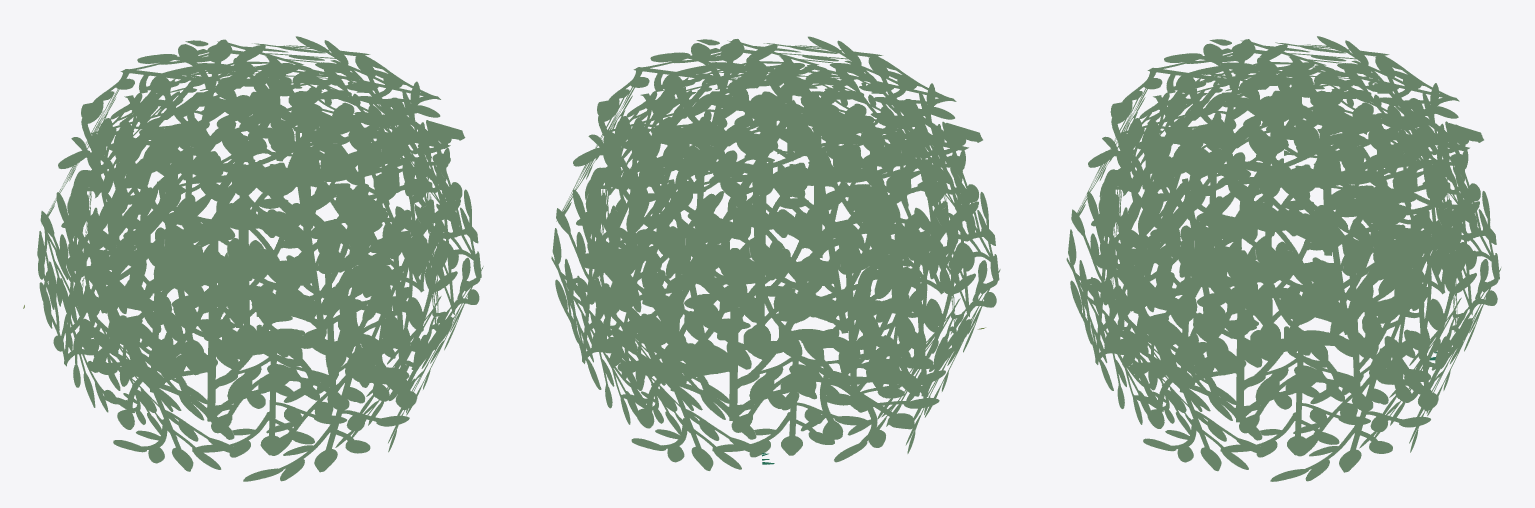
The model's file is Bush1.fbx.
3 views of the same model, side by side, from view 1: azimuth 30°, elevation 25°; view 2: azimuth 150°, elevation 25°; view 3: azimuth 270°, elevation 25° (orthographic).
Parts seen in each view (by area): view 1: pSphere14; view 2: pSphere14; view 3: pSphere14.
Part boxes in pixels (x1=…): pSphere14: x1=23, y1=36, x2=483, y2=481; pSphere14: x1=551, y1=36, x2=1000, y2=470; pSphere14: x1=1066, y1=36, x2=1501, y2=481.
Bounding box in the file's own units: 1.29 × 0.987 × 1.18.
